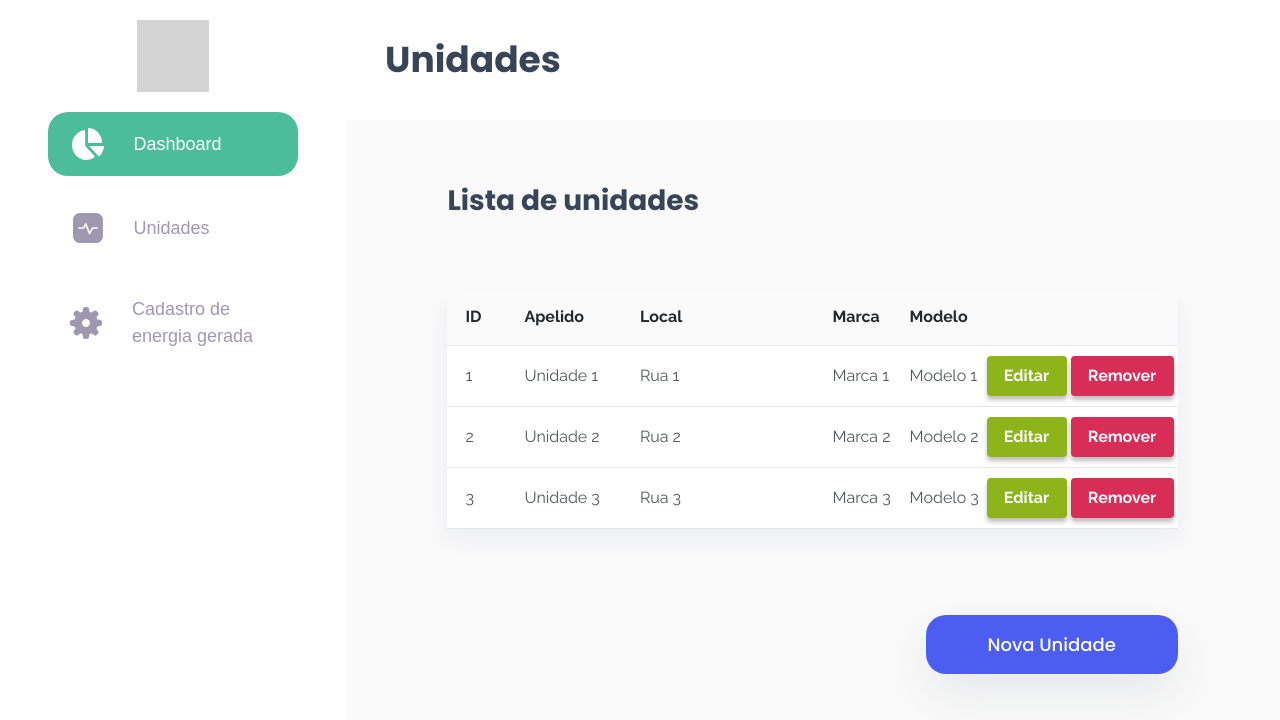
Units › should render UnitRegister component when click on button
Step 1. Click the button "Nova Unidade" → [1052, 644], box [926, 614, 1178, 674]
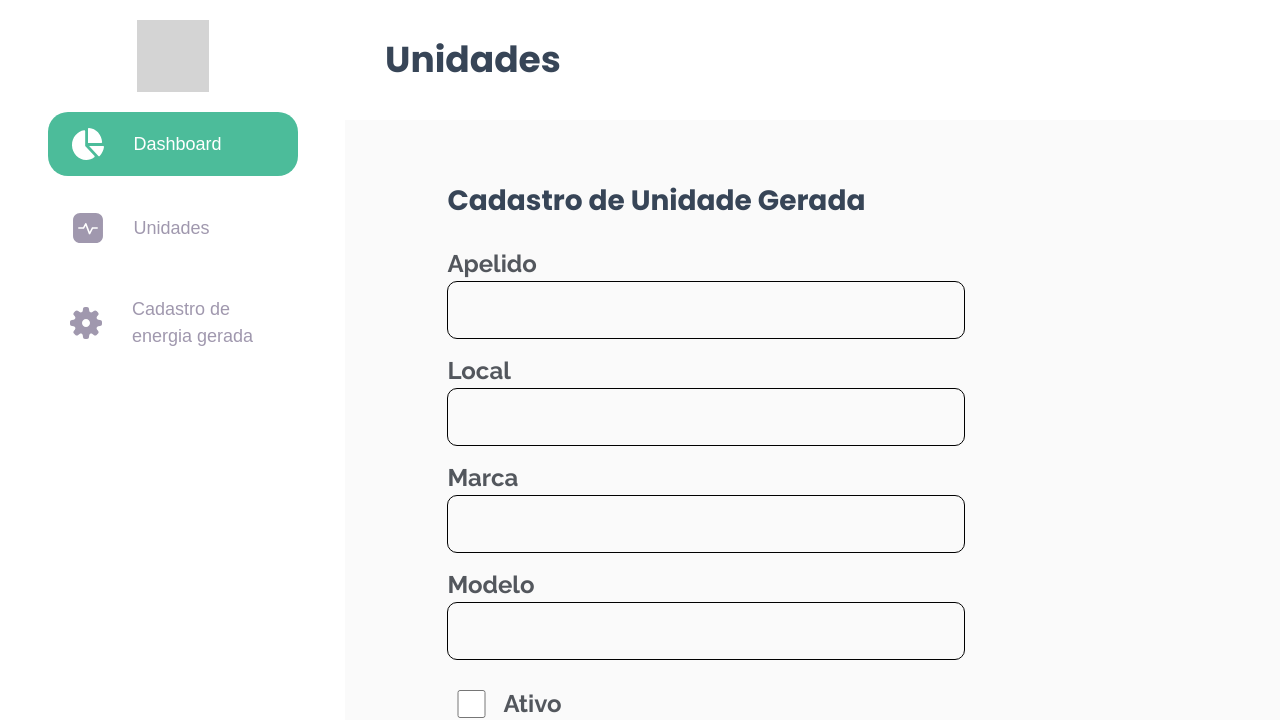
Check: the heading "Cadastro de Unidade Gerada" is shown, box [447, 181, 865, 220]
